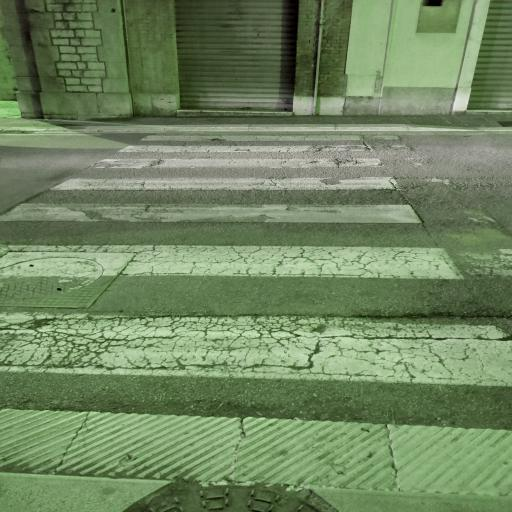crosswalk: (1, 235, 511, 393), (42, 154, 408, 194)
